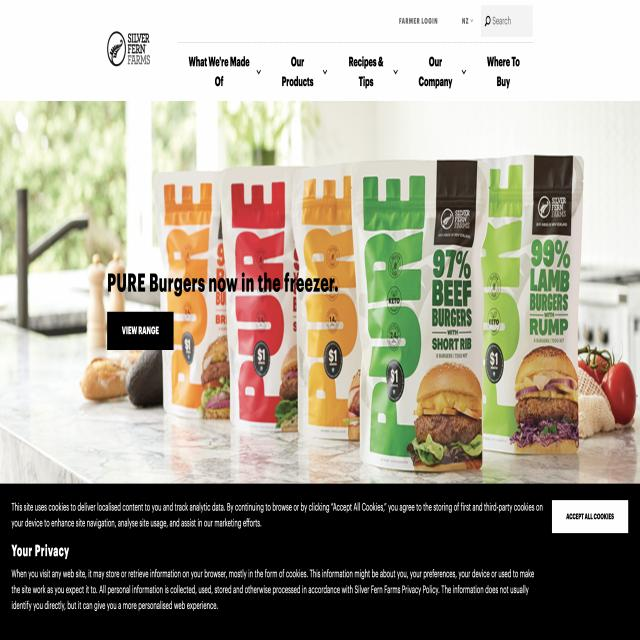Logo: (102, 17, 164, 77)
Navigation: (181, 48, 536, 93)
